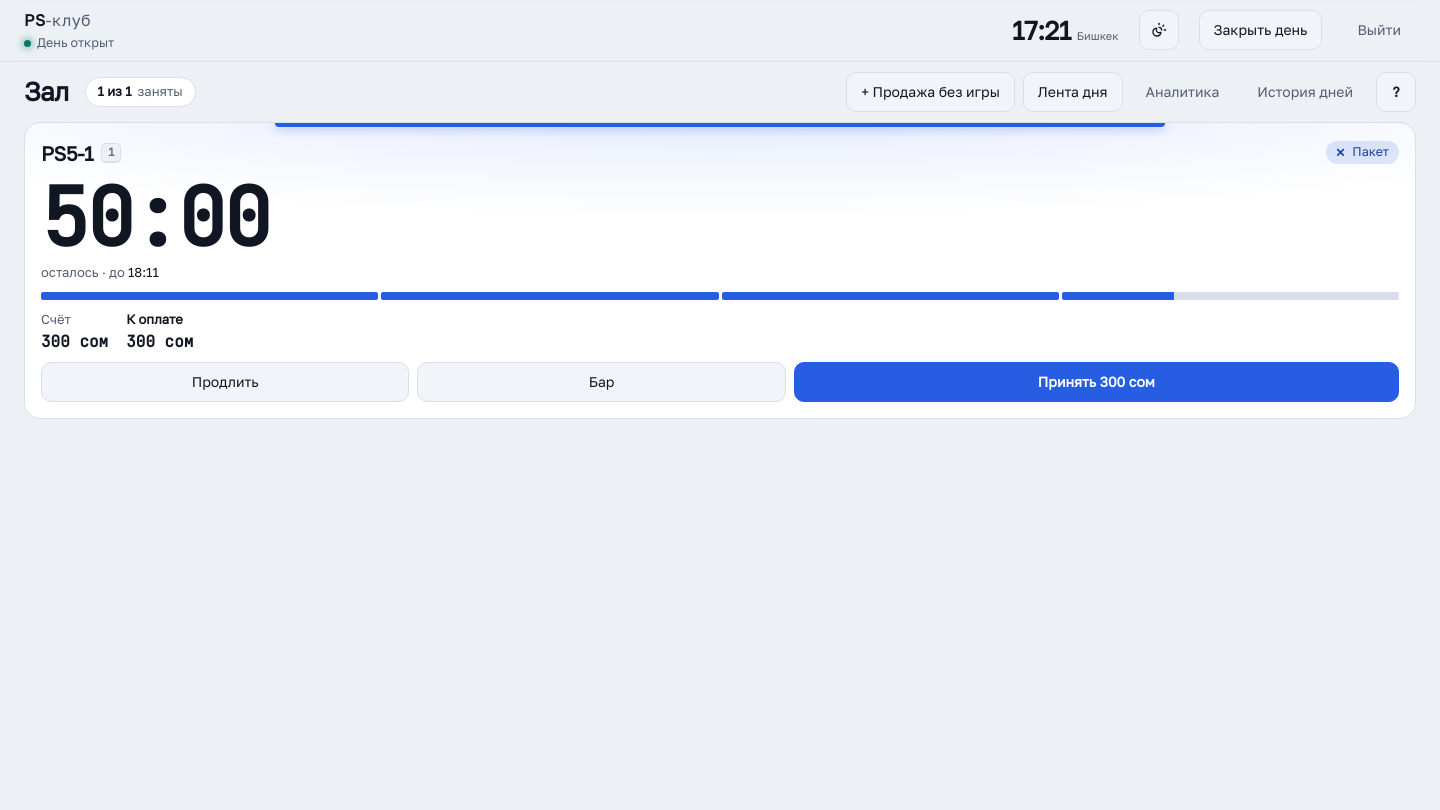
HallPage › paying a running session › offers to stop the console once it is paid off, then closes everything
Expected: the text "PS5-1" is shown, [41,139,93,167]
Click the button "Принять 300 сом" at (1096, 382), box [794,362,1399,402]
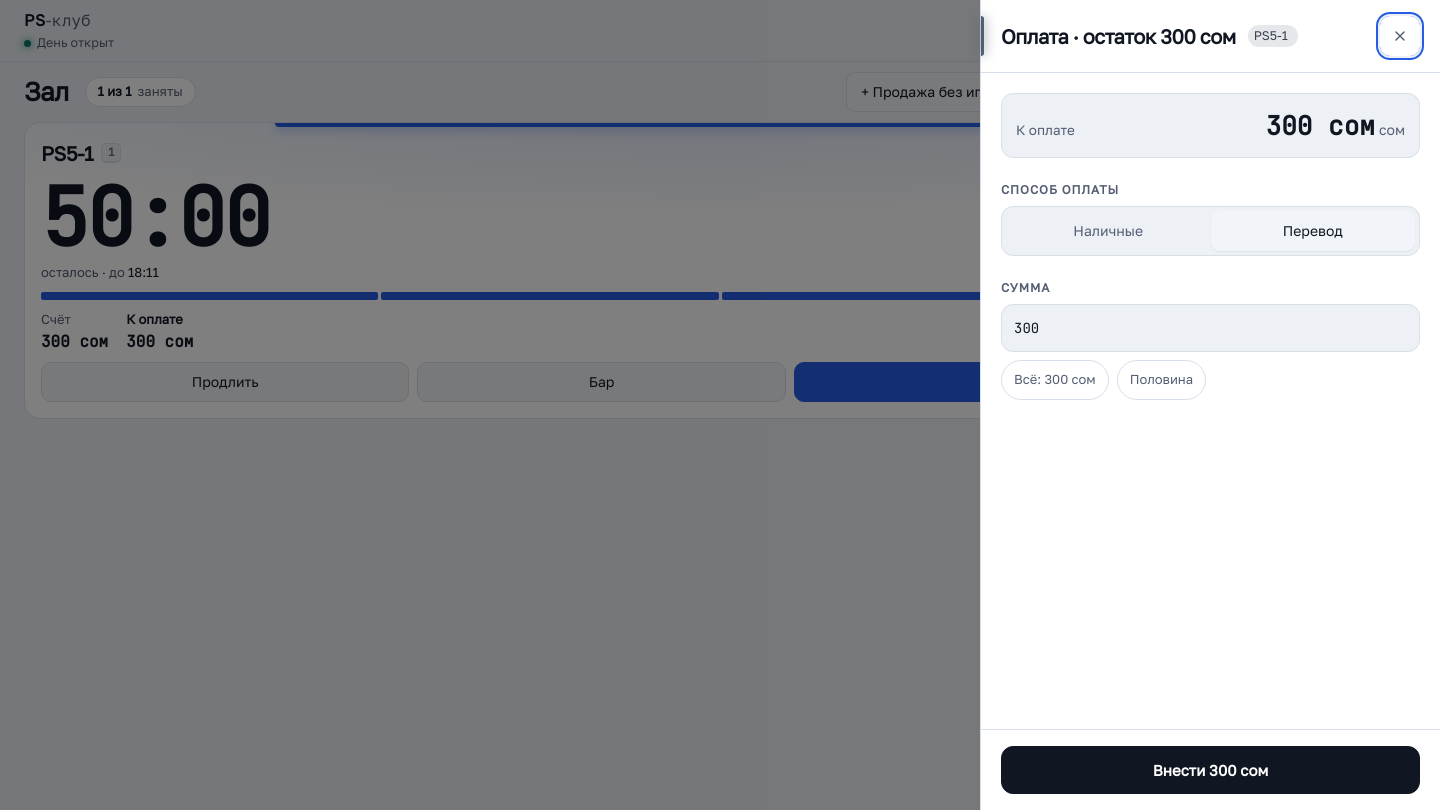
Expected: the heading "Оплата · остаток 300 сом" is shown, [1001,22,1236,50]
Click the button "Внести 300 сом" at (1210, 770), box [1001,746,1420,794]
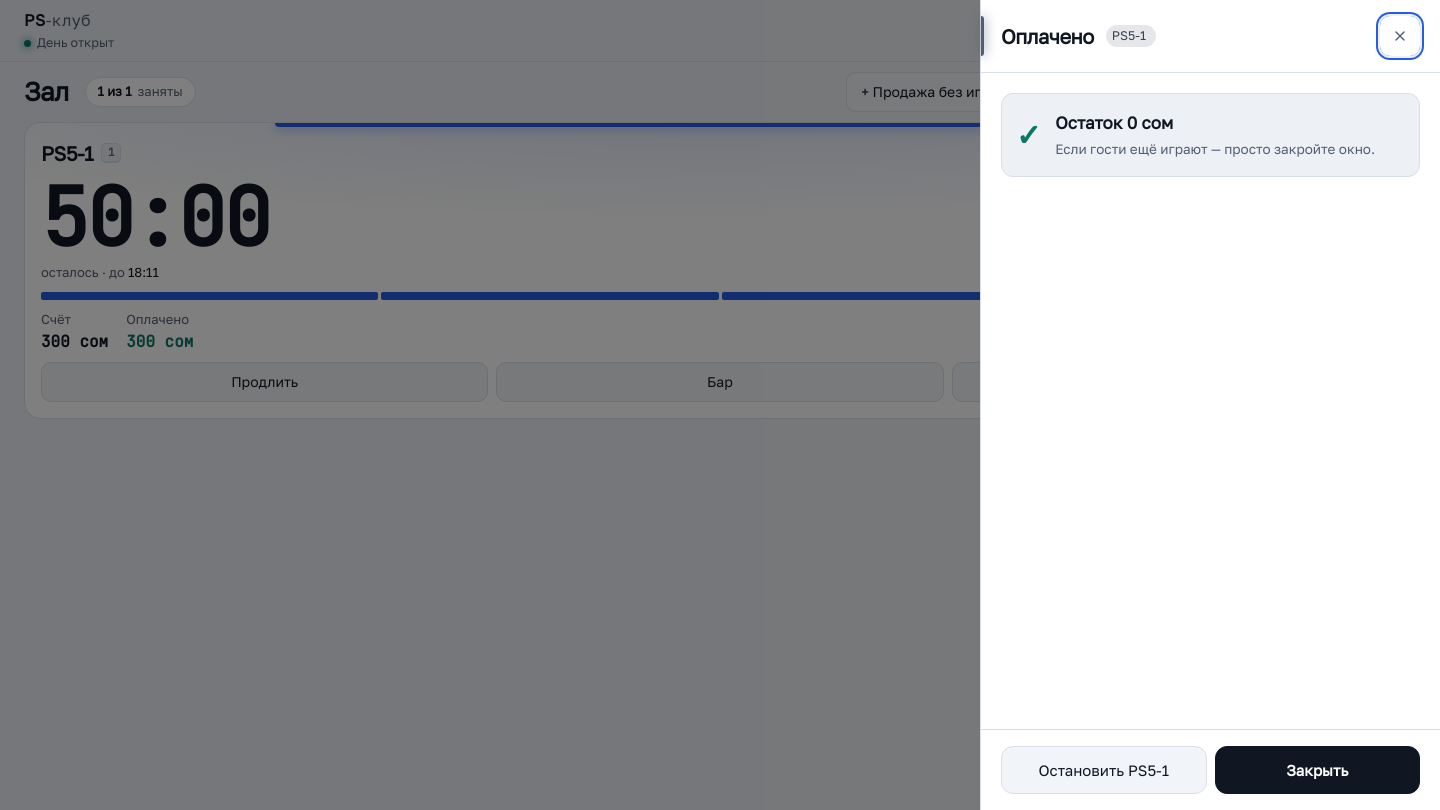
Expected: the heading "Оплачено" is shown, [1001,22,1094,50]
Click the button "Остановить PS5-1" at (1104, 770), box [1001,746,1206,794]
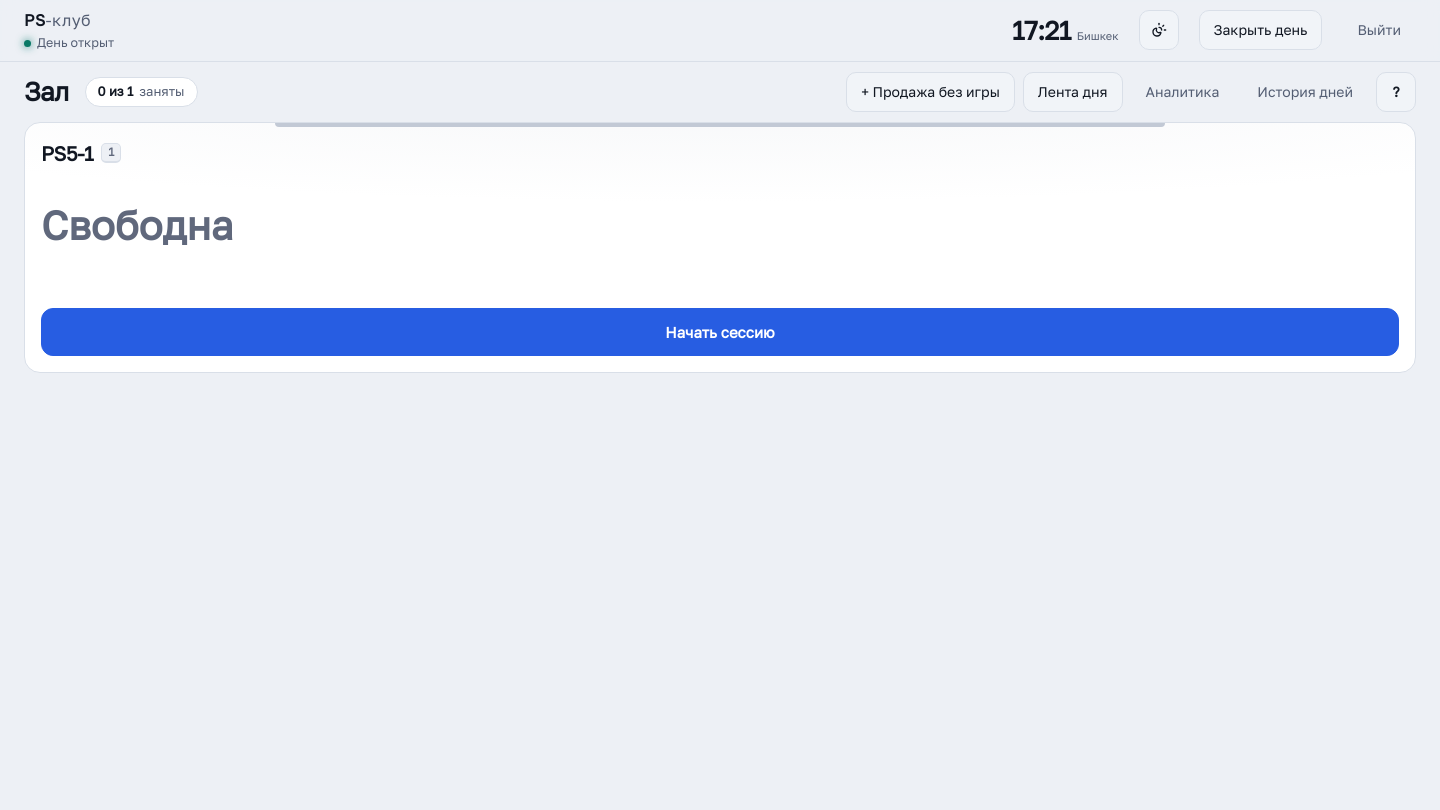
Expected: the text "Оплачено" is gone
Expected: the text "Свободна" is shown, [41,201,233,249]
